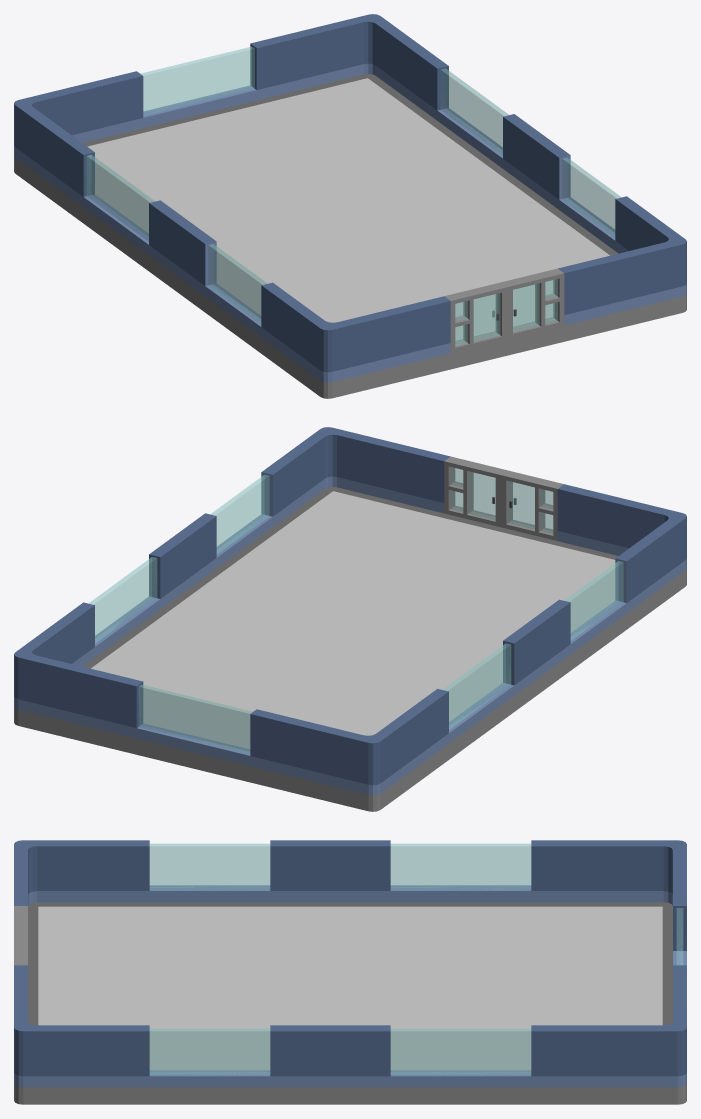
File: Kitchen.fbx
The picture shows the model from 3 angles, top to bottom: view 1: azimuth 30°, elevation 25°; view 2: azimuth 150°, elevation 25°; view 3: azimuth 270°, elevation 25°; orthographic projection. The views are drawn at different scales.
Visible parts, largest first — view 1: Kitchen; view 2: Kitchen; view 3: Kitchen.
Boxes of the visible parts, <box> form: Kitchen: <box>14,14,686,398</box>; Kitchen: <box>14,427,686,811</box>; Kitchen: <box>14,840,686,1104</box>.
Bounding box in the file's own units: 1302 × 233 × 1938.
